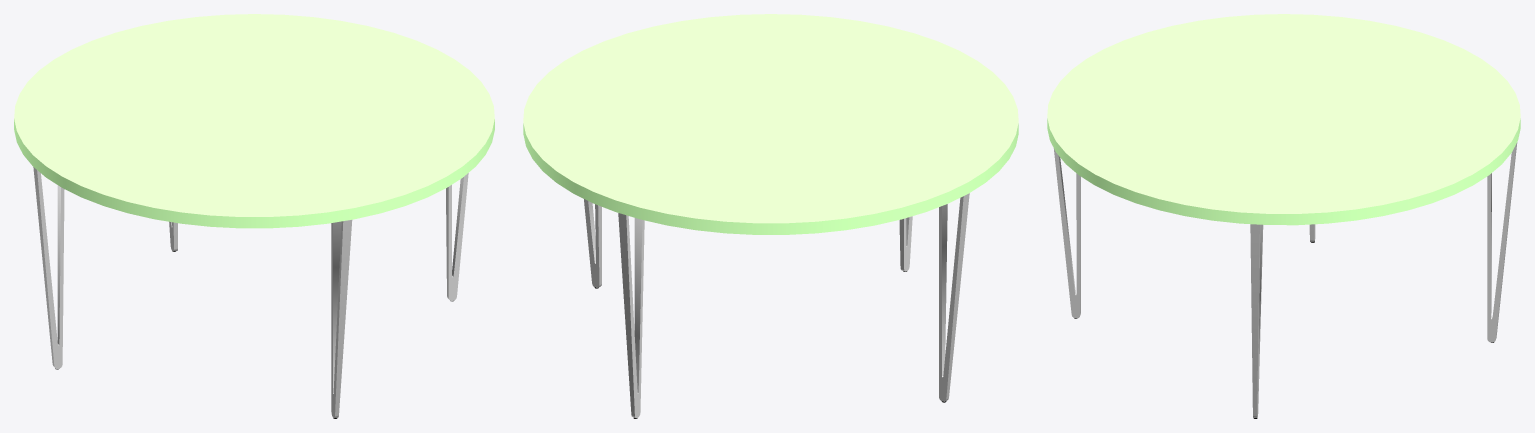
The model's file is Table.glb.
The picture shows the model from 3 angles, left to right: view 1: azimuth 30°, elevation 25°; view 2: azimuth 150°, elevation 25°; view 3: azimuth 270°, elevation 25°; orthographic projection. The views are drawn at different scales.
Parts seen in each view (by area): view 1: IKEA-Vika_Manne_Table-3D; view 2: IKEA-Vika_Manne_Table-3D; view 3: IKEA-Vika_Manne_Table-3D.
Boxes of the visible parts, x1=… form: IKEA-Vika_Manne_Table-3D: x1=14, y1=14, x2=494, y2=418; IKEA-Vika_Manne_Table-3D: x1=523, y1=14, x2=1018, y2=418; IKEA-Vika_Manne_Table-3D: x1=1047, y1=14, x2=1520, y2=418.
Size of the model in its own units: 63.69 by 32.06 by 63.72.
